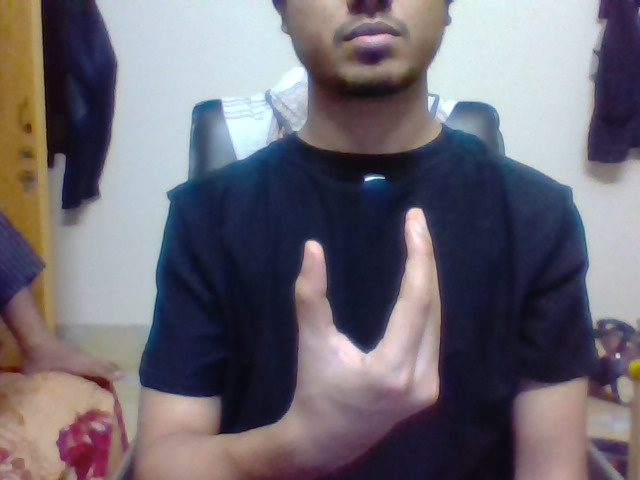U: (280, 191, 456, 370)
